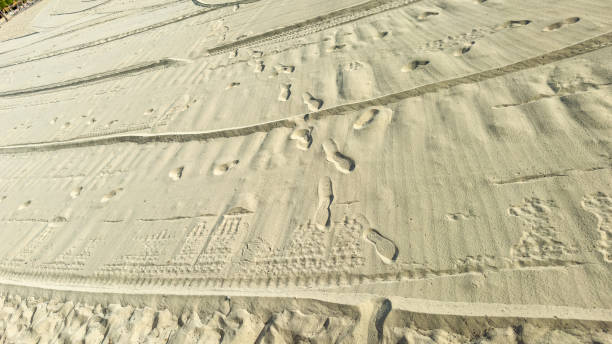vehicle_track: (0, 115, 302, 153), (207, 0, 419, 54), (0, 58, 184, 97)
